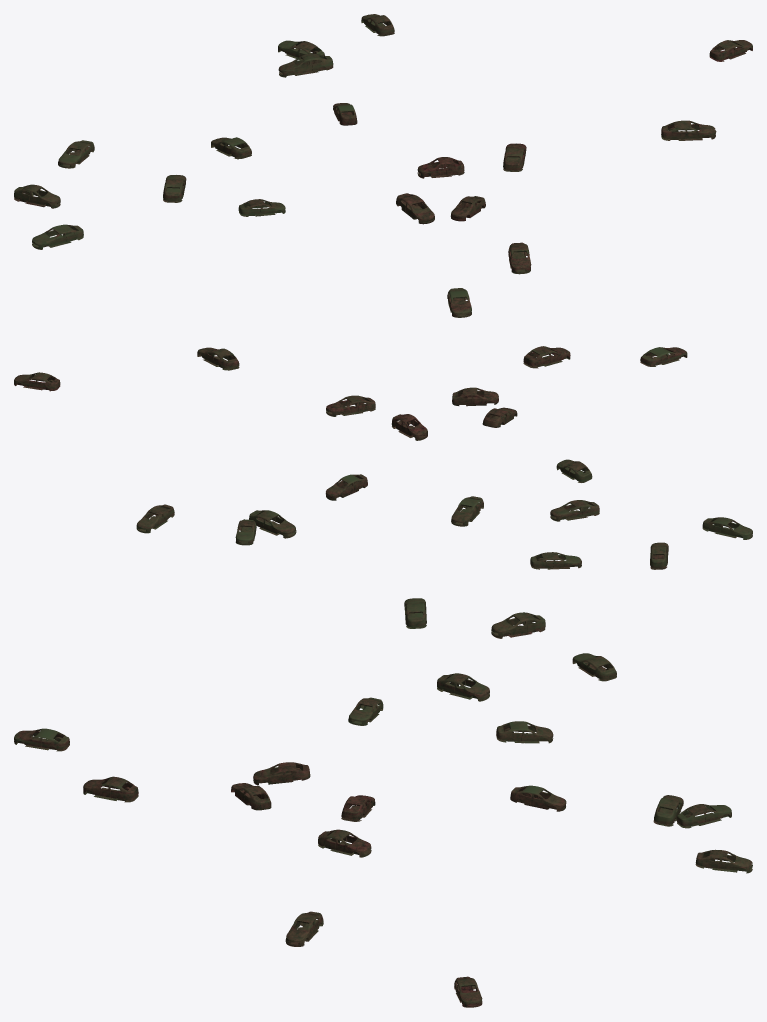
Rendered from Car_3.fbx.
3 views of the same model, one above another, from view 1: azimuth 30°, elevation 25°; view 2: azimuth 150°, elevation 25°; view 3: azimuth 270°, elevation 25° (orthographic). The views are drawn at different scales.
Visible parts, largest first — view 1: city.018; view 2: city.018; view 3: city.018.
Boxes of the visible parts, <box> form: city.018: <box>14,14,752,317</box>; city.018: <box>14,346,752,569</box>; city.018: <box>14,598,752,1007</box>.
Size of the model in its own units: 3362 by 67.19 by 2597.
